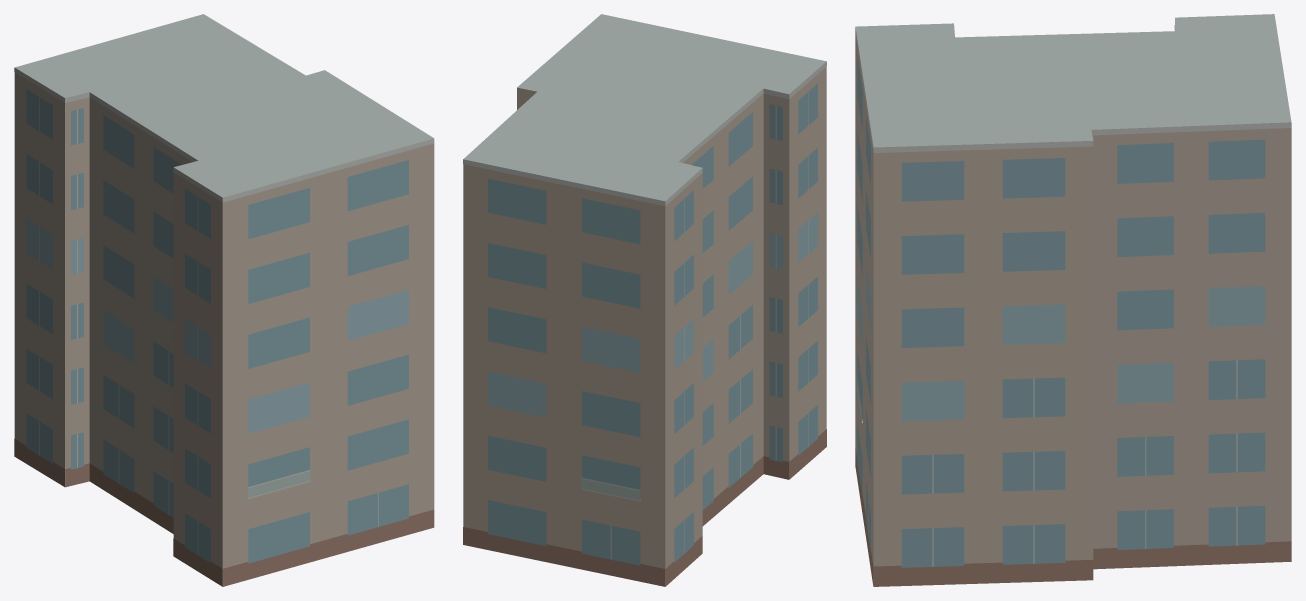
Rendered from survey-upis-32701651.glb.
The picture shows the model from 3 angles, left to right: view 1: azimuth 30°, elevation 25°; view 2: azimuth 150°, elevation 25°; view 3: azimuth 270°, elevation 25°; orthographic projection. The views are drawn at different scales.
Visible parts, largest first — view 1: survey-upis-32701651.tmp; view 2: survey-upis-32701651.tmp; view 3: survey-upis-32701651.tmp.
Part boxes in pixels (x1,y1,x2,y2): survey-upis-32701651.tmp: [14, 14, 434, 586]; survey-upis-32701651.tmp: [463, 14, 826, 586]; survey-upis-32701651.tmp: [855, 14, 1291, 586].
Bounding box in the file's own units: 12.52 × 19.2 × 17.28.
